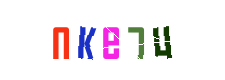4: (113, 0, 193, 80)
7: (72, 0, 152, 80)
E: (70, 0, 150, 80)
K: (45, 0, 125, 80)
N: (20, 0, 100, 80)
